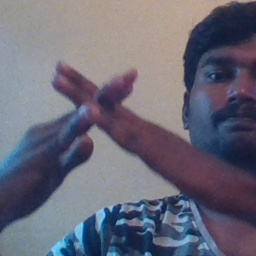W: (36, 51, 155, 180)
